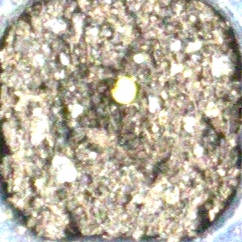pepper seed: (41, 23, 179, 129)
